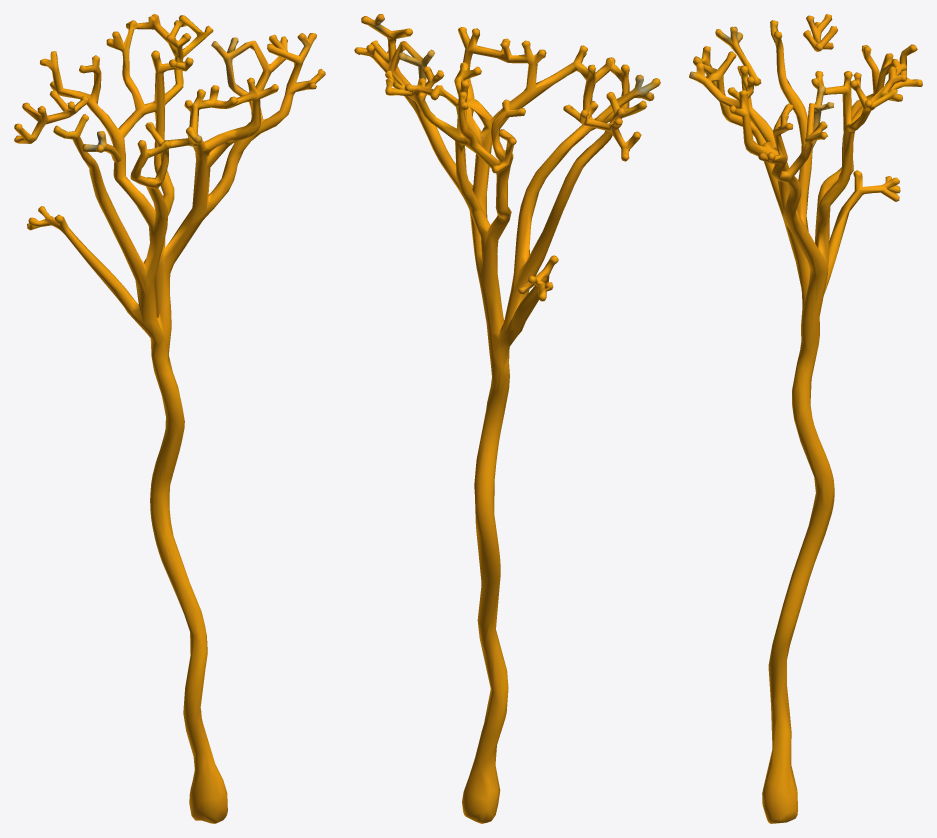
Rendered from median-nerve.glb.
3 renders of one model, left to right at view 1: azimuth 30°, elevation 25°; view 2: azimuth 150°, elevation 25°; view 3: azimuth 270°, elevation 25°, orthographic. The views are drawn at different scales.
Parts seen in each view (by area): view 1: median-nerve; view 2: median-nerve; view 3: median-nerve.
Boxes of the visible parts, x1,y1,x2,y2 form: median-nerve: (14, 14, 325, 823); median-nerve: (354, 14, 660, 823); median-nerve: (689, 14, 922, 823).
Size of the model in its own units: 0.394 by 1 by 0.2809.
Materials: 1 (1 with a texture image).
